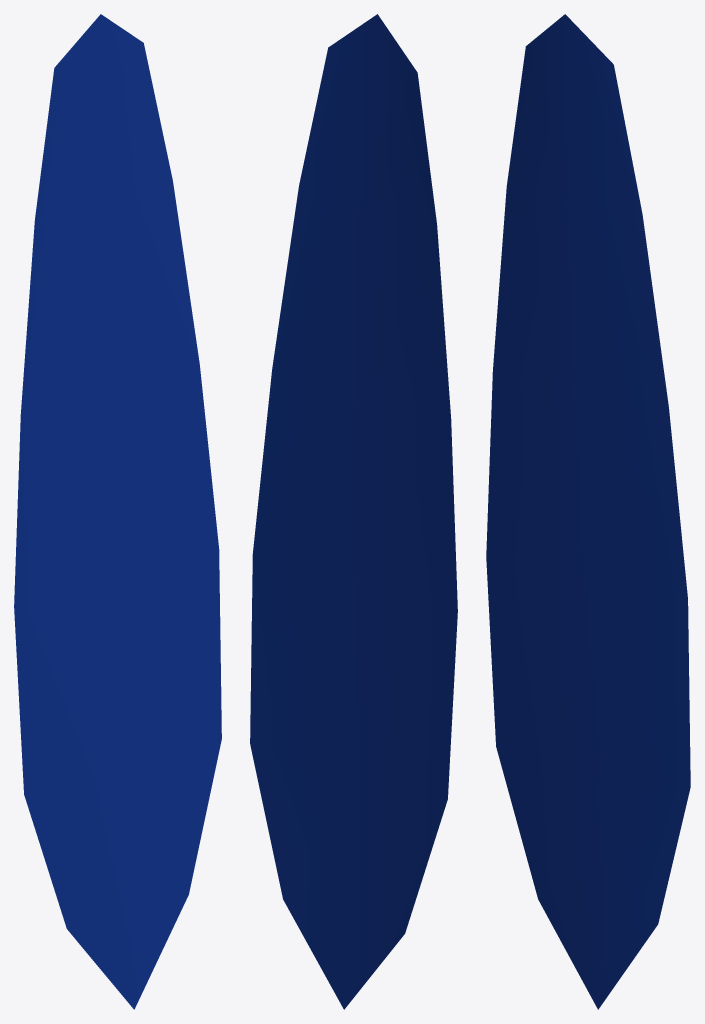
File: ara_feather_flight_primary_005.obj
The picture shows the model from 3 angles, left to right: view 1: azimuth 30°, elevation 25°; view 2: azimuth 150°, elevation 25°; view 3: azimuth 330°, elevation 25°; orthographic projection.
Parts seen in each view (by area): view 1: feather_flight_primary_005; view 2: feather_flight_primary_005; view 3: feather_flight_primary_005.
Part boxes in pixels (box(x1,y1,x2,y2)): feather_flight_primary_005: box(14, 14, 221, 1009); feather_flight_primary_005: box(250, 14, 457, 1009); feather_flight_primary_005: box(486, 14, 690, 1009).
Bounding box in the file's own units: 0.027 × 0.1245 × 0.000725.
